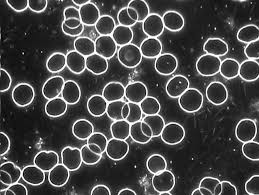Malaria: (117, 44, 144, 69), (179, 86, 205, 111), (198, 52, 221, 80), (11, 82, 35, 107), (160, 122, 186, 145), (45, 51, 68, 76), (206, 81, 229, 106), (236, 117, 257, 144), (203, 36, 230, 56), (34, 150, 58, 172), (107, 139, 129, 160), (42, 77, 65, 97), (74, 36, 96, 56), (147, 154, 167, 175), (73, 119, 95, 138), (96, 14, 115, 34)
